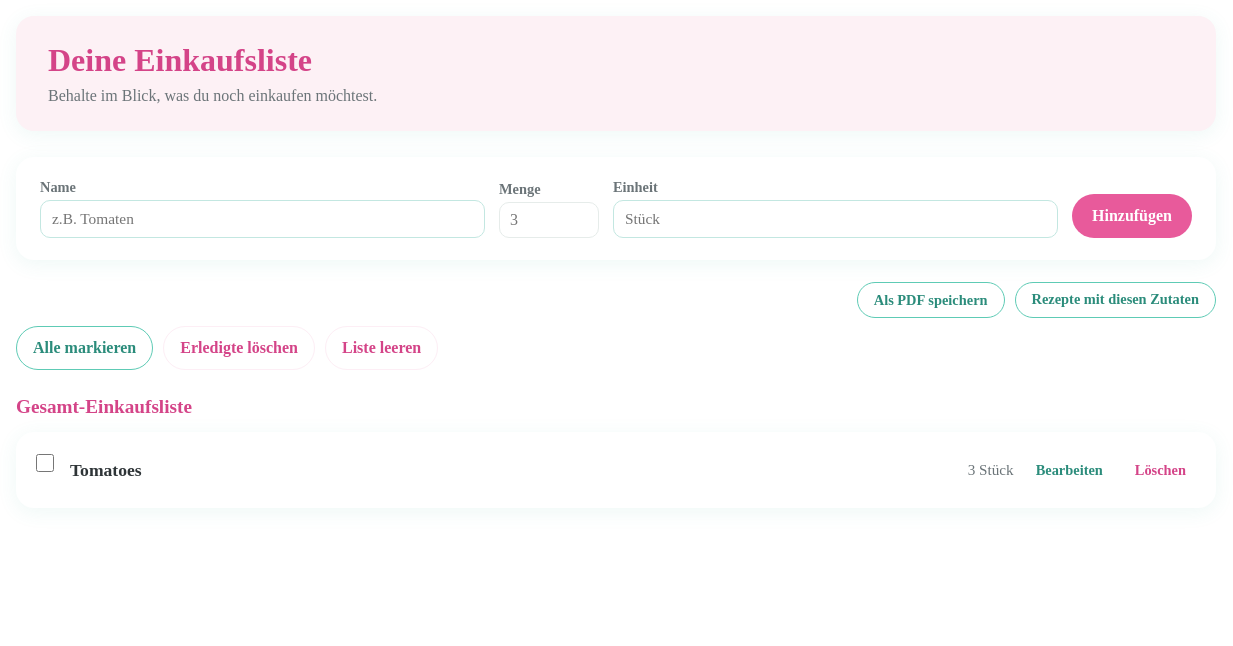
Test: ShoppingListView › shows forbidden message when update returns 403
Step 1. Click the button with class "edit-btn" → (1069, 470), box 1026,450 -> 1113,490
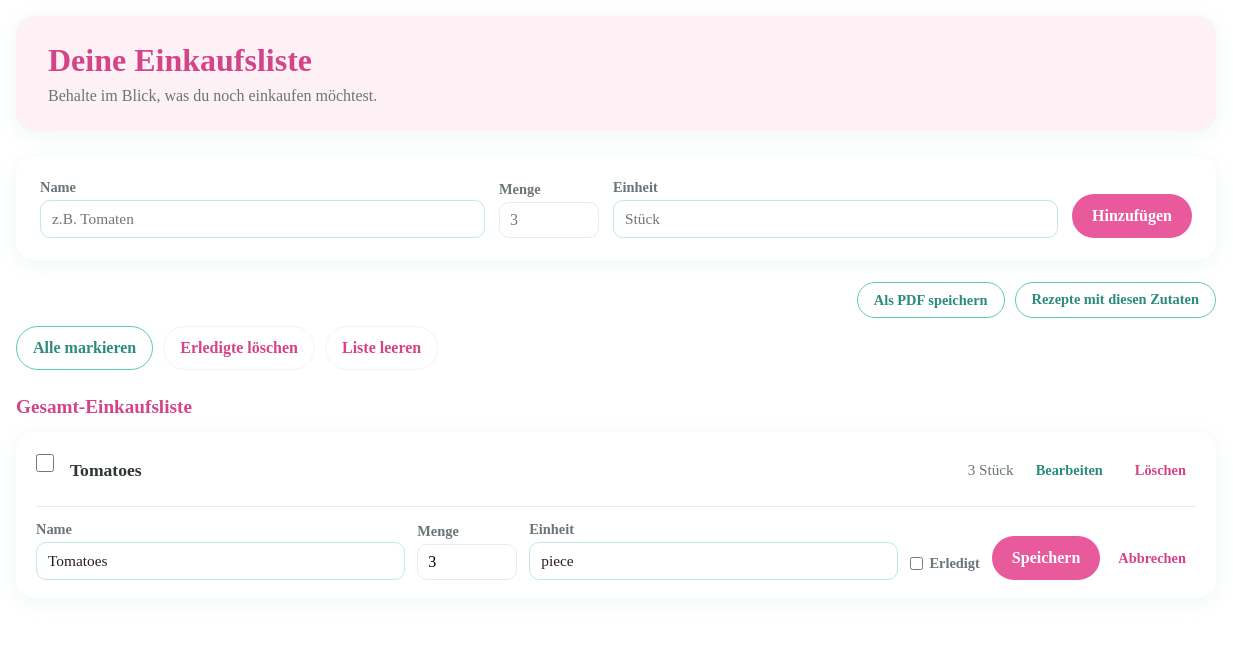
Step 2. Submit the form with class "edit-form", box 36,506 -> 1196,580
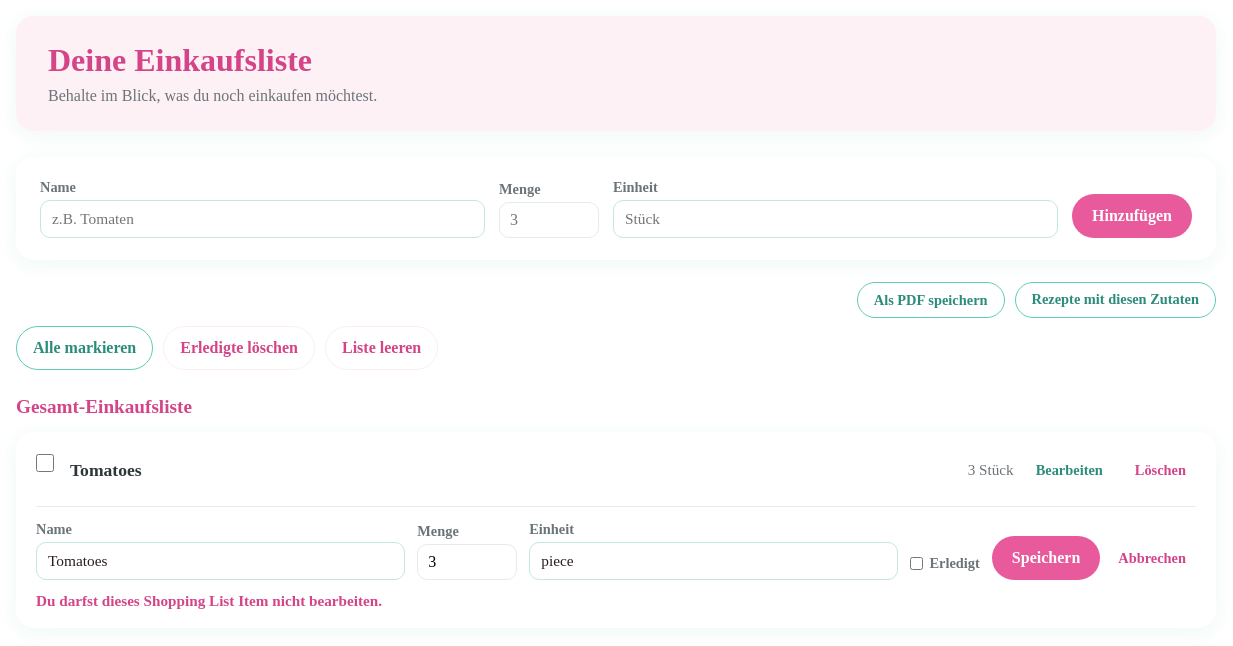
Now the text "Du darfst dieses Shopping List Item nicht bearbeiten." is shown, box 36,592 -> 382,609
